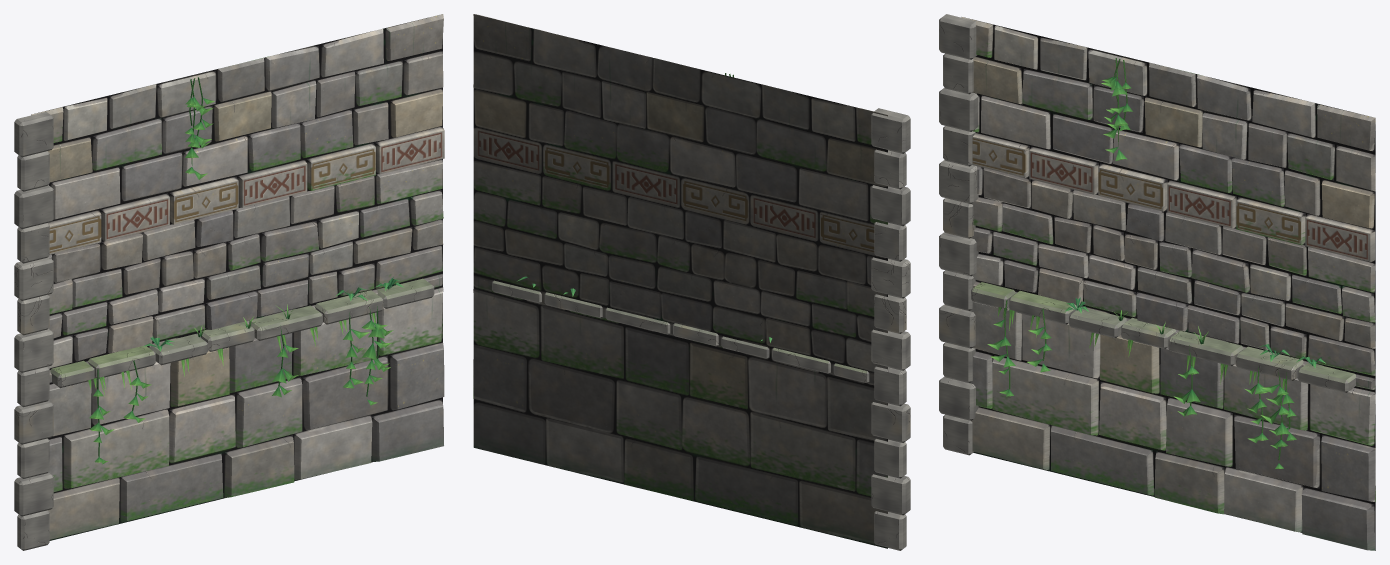
The model's file is pit_wall.glb.
3 renders of one model, left to right at view 1: azimuth 30°, elevation 25°; view 2: azimuth 150°, elevation 25°; view 3: azimuth 330°, elevation 25°, orthographic.
Parts seen in each view (by area): view 1: pit_wall_face, pit_wall_blocks, pit_wall_green; view 2: pit_wall_face, pit_wall_blocks; view 3: pit_wall_face, pit_wall_blocks, pit_wall_green.
Part boxes in pixels (<box>): pit_wall_face: <box>31,14,444,540</box>; pit_wall_blocks: <box>14,111,434,550</box>; pit_wall_green: <box>88,77,403,464</box>; pit_wall_face: <box>473,14,887,548</box>; pit_wall_blocks: <box>492,108,910,550</box>; pit_wall_face: <box>961,17,1375,550</box>; pit_wall_blocks: <box>939,14,1355,455</box>; pit_wall_green: <box>987,58,1325,468</box>.
Bounding box in the file's own units: 12.51 × 12.01 × 1.25.
Materials: 3 (3 with a texture image).
